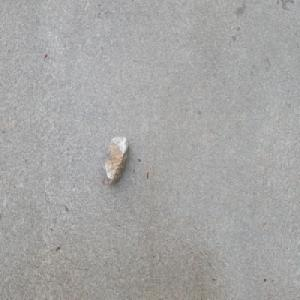Rock: (103, 133, 130, 188)
